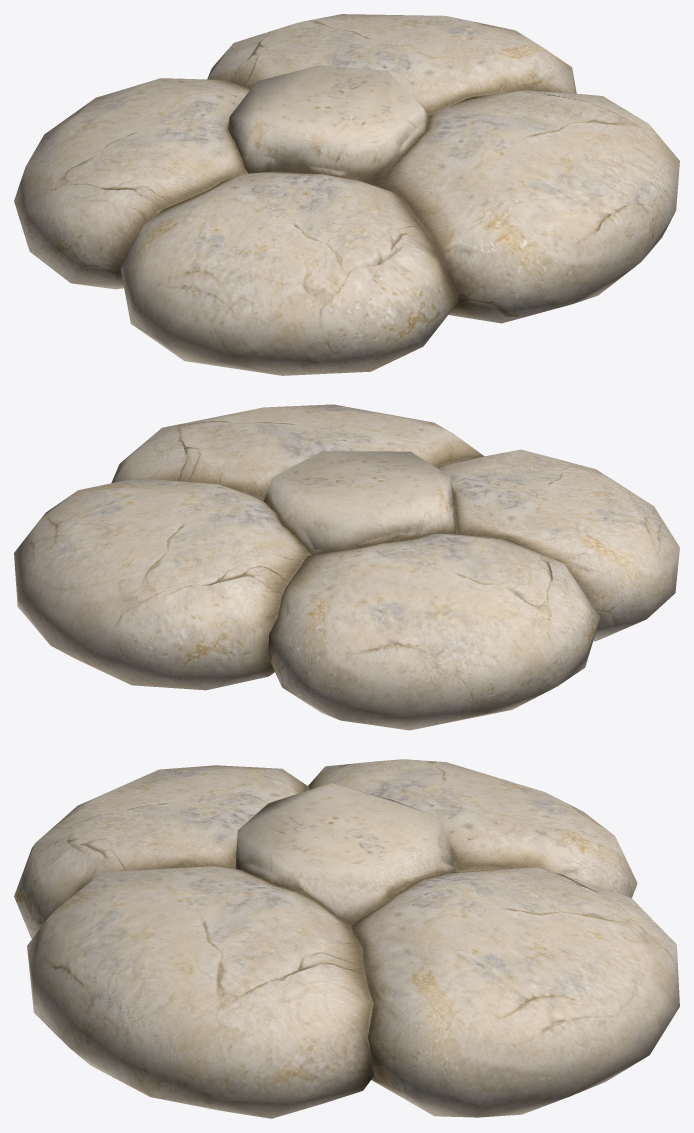
Rendered from nature-white-limestone-pebbles.glb.
3 views of the same model, one above another, from view 1: azimuth 30°, elevation 25°; view 2: azimuth 150°, elevation 25°; view 3: azimuth 270°, elevation 25° (orthographic). The views are drawn at different scales.
Bounding box in the file's own units: 1 × 0.285 × 0.9724.
Materials: 1 (1 with a texture image).
